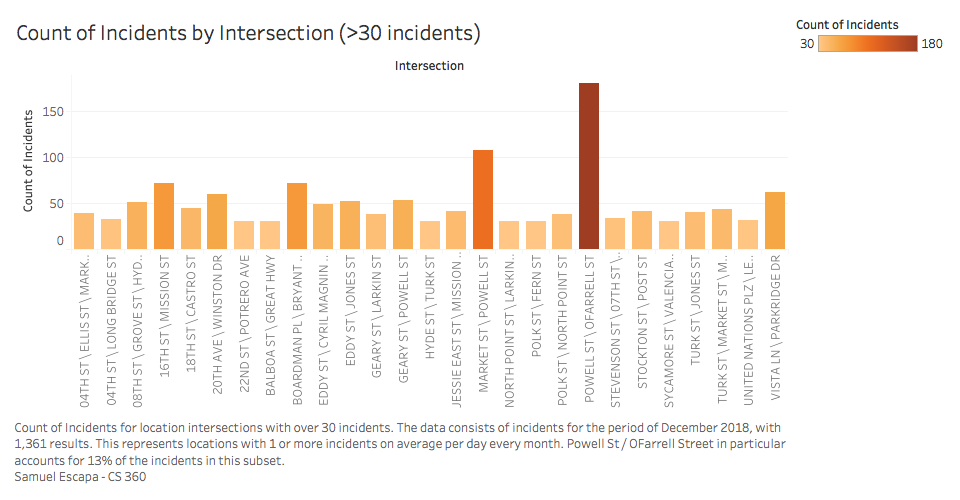

The page's visual inventory and layout, read from the dashboard file:
{"tool":"tableau","page":{"name":"Dashboard 2","canvas":[960,500],"ordinal":1},"visuals":[{"type":"worksheet","title":"Prototype 2: Count of incidents by intersection","mark":"Bar","rows":["Intersection"],"cols":["Intersection"],"box":[8,8,784,405]},{"type":"legend","title":"Prototype 2: Count of incidents by intersection","param":"[federated.1ep41w91cxhwvh16km6yd02wqh34].[cnt:Intersection:qk]","box":[792,8,160,65]},{"type":"text","box":[8,413,784,79]}]}

Visuals, with their boxes in screenshot pixels (x1, y1, x2, y2), scaled from the page's 960x500 canvas onto the 960x500 screenshot:
"Prototype 2: Count of incidents by intersection" worksheet (Bar marks): <bbox>8, 8, 792, 413</bbox>
"Prototype 2: Count of incidents by intersection" legend: <bbox>792, 8, 952, 73</bbox>
text: <bbox>8, 413, 792, 492</bbox>
